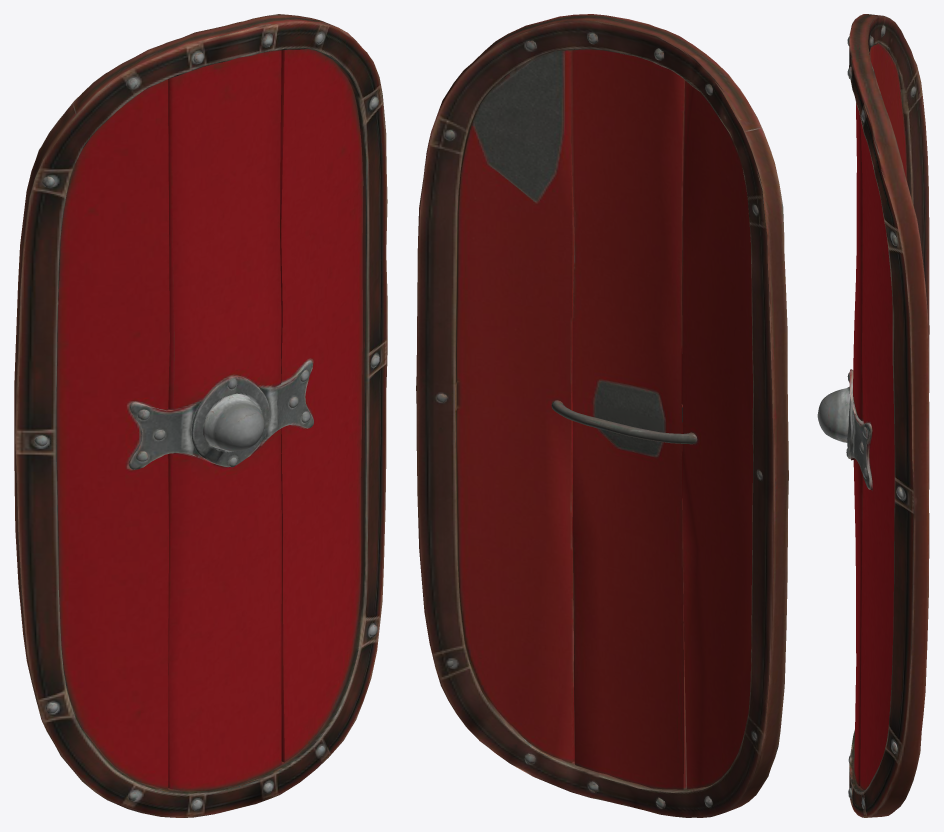
Rendered from gear_roman_scutum_0.glb.
The picture shows the model from 3 angles, left to right: view 1: azimuth 30°, elevation 25°; view 2: azimuth 150°, elevation 25°; view 3: azimuth 270°, elevation 25°; orthographic projection. The views are drawn at different scales.
Visible parts, largest first — view 1: MeshyGear_gear_roman_scutum; view 2: MeshyGear_gear_roman_scutum; view 3: MeshyGear_gear_roman_scutum.
Part boxes in pixels (x1=…): MeshyGear_gear_roman_scutum: x1=14, y1=14, x2=387, y2=817; MeshyGear_gear_roman_scutum: x1=416, y1=14, x2=788, y2=817; MeshyGear_gear_roman_scutum: x1=817, y1=14, x2=929, y2=817.
Bounding box in the file's own units: 0.5318 × 1.06 × 0.1438.
Materials: 1 (1 with a texture image).
